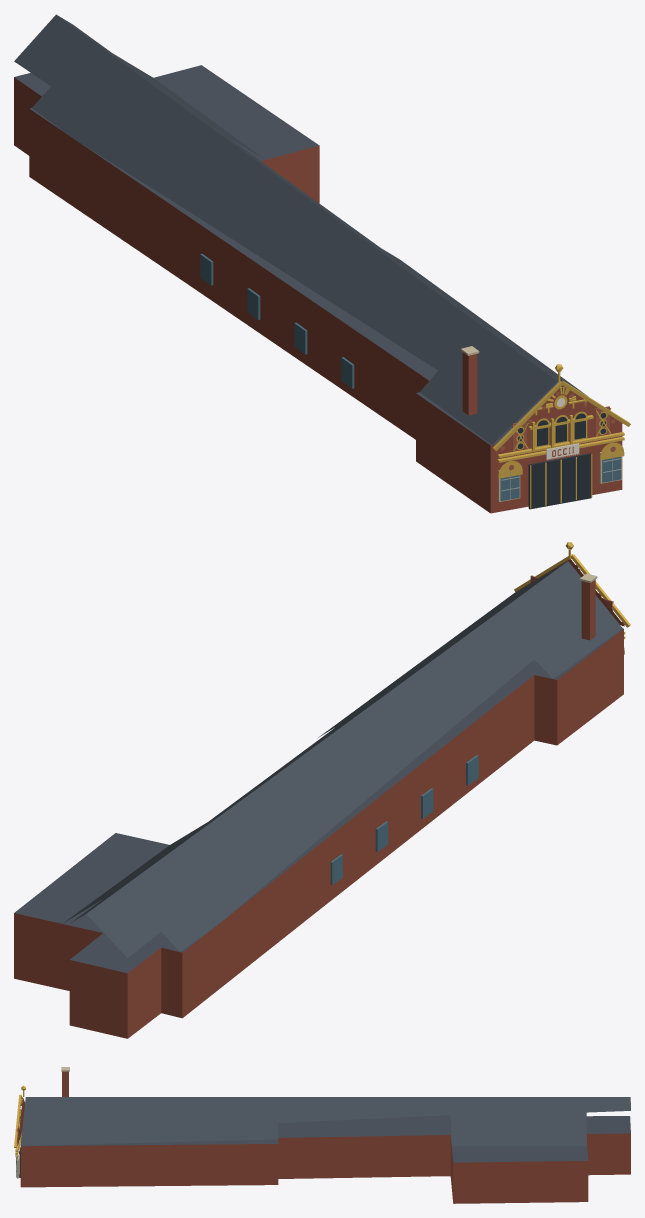
The model's file is occii.glb.
3 renders of one model, top to bottom at view 1: azimuth 30°, elevation 25°; view 2: azimuth 150°, elevation 25°; view 3: azimuth 270°, elevation 25°, orthographic. The views are drawn at different scales.
Visible parts, largest first — view 1: occii; view 2: occii; view 3: occii.
Part boxes in pixels (box(x1,y1,x2,y2)): occii: box(14, 14, 630, 513); occii: box(14, 542, 630, 1038); occii: box(14, 1067, 630, 1203).
Bounding box in the file's own units: 13.37 × 9.89 × 65.21.
